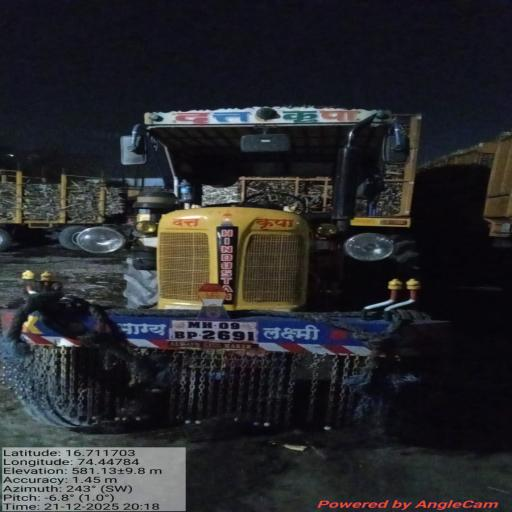number_plate: (170, 321, 257, 342)
